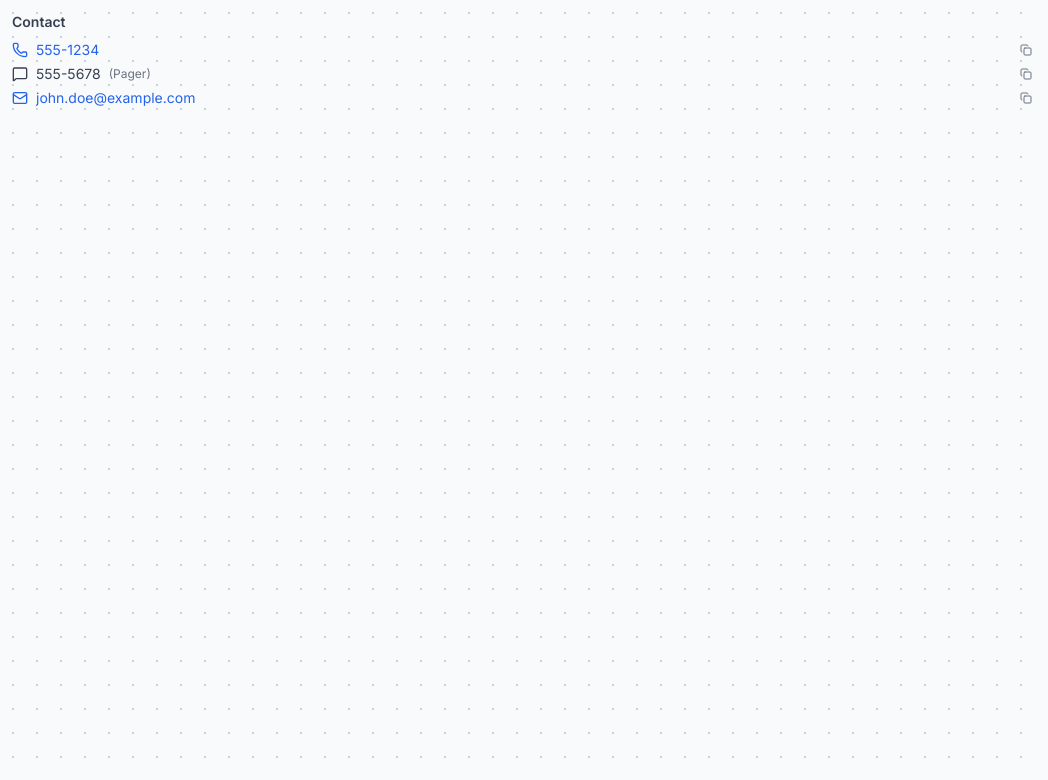
Test case: ContactInfo › Copy Functionality › should show check icon after successful copy
The image size is (1048, 780).
Click the button titled "Copy phone number".
click(1026, 50)  # box [1016, 40, 1036, 60]
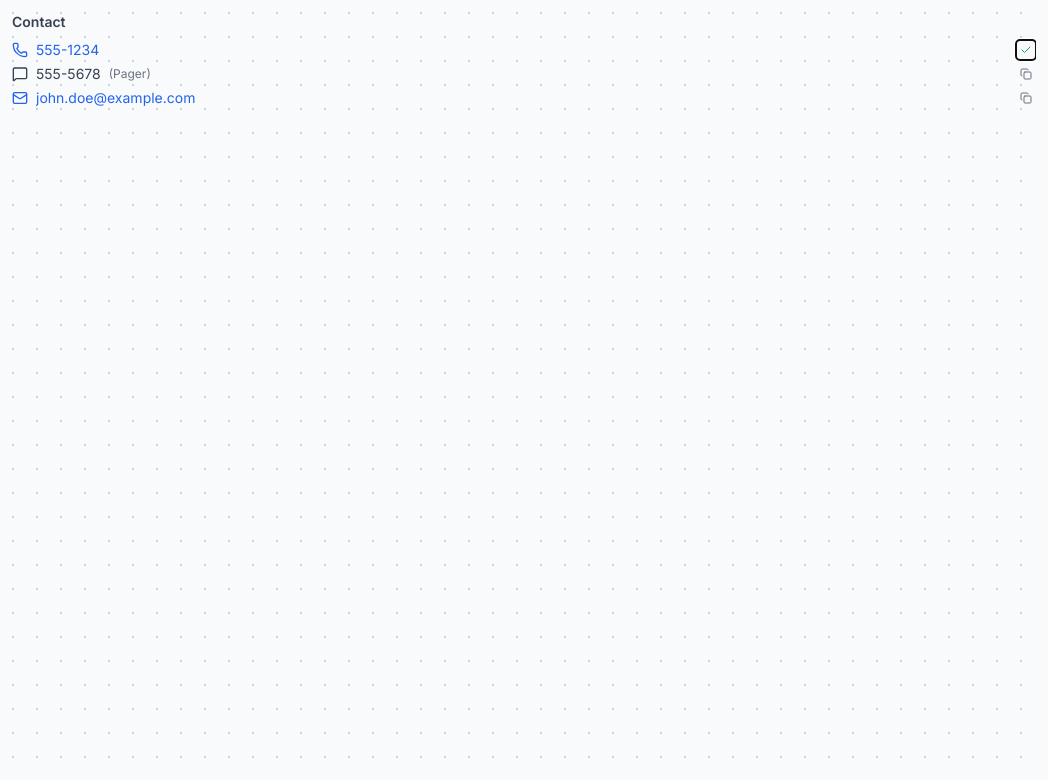
Check: the 2nd icon is shown, box [1020, 44, 1032, 56]
